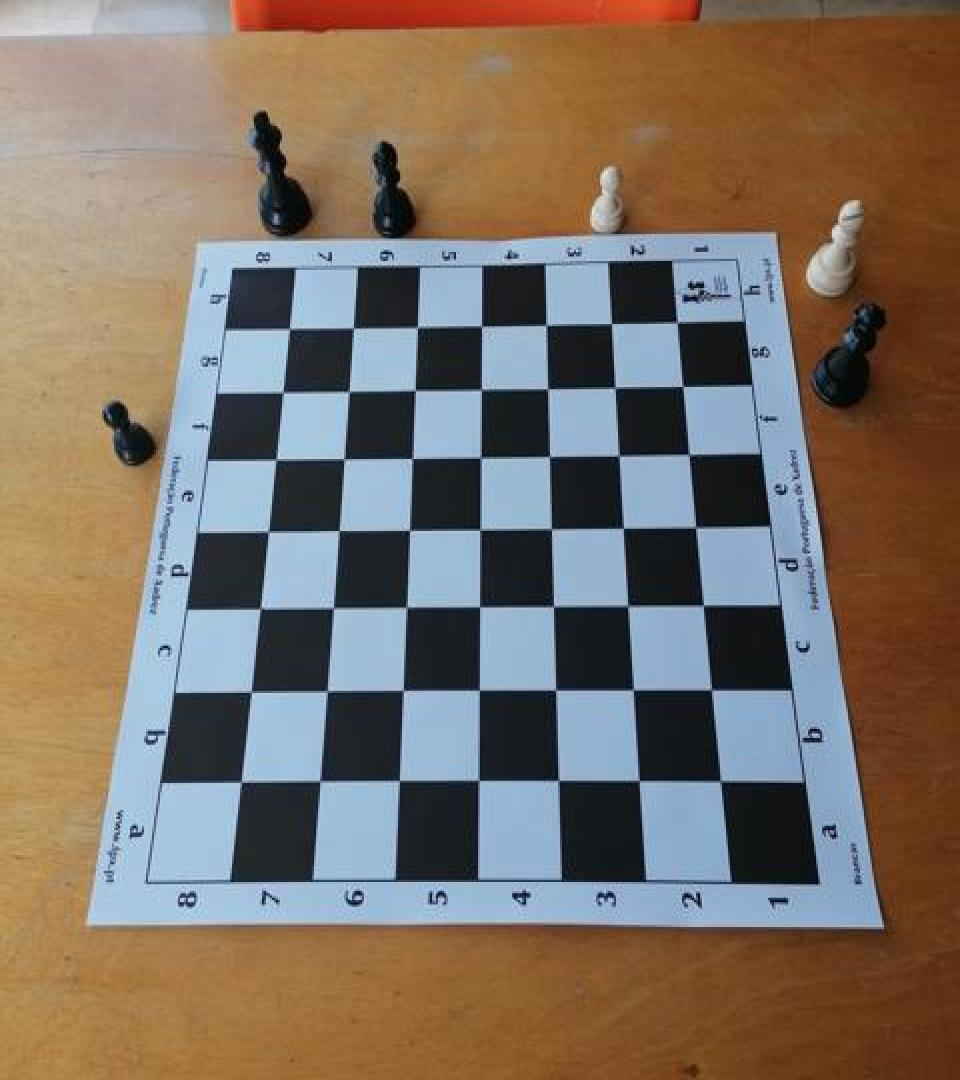xcorner: (225, 765, 253, 797), (543, 670, 571, 702), (621, 670, 649, 702), (699, 669, 727, 701), (245, 589, 273, 621), (319, 588, 347, 620), (392, 587, 420, 619), (467, 587, 495, 619), (541, 586, 569, 618), (616, 585, 644, 617), (467, 508, 495, 540), (539, 507, 567, 539), (611, 506, 639, 538), (683, 505, 711, 537), (399, 436, 427, 468), (468, 435, 496, 467), (537, 434, 565, 466), (606, 433, 634, 465), (676, 432, 704, 464), (269, 372, 297, 404), (335, 370, 363, 402), (402, 369, 430, 401), (669, 364, 697, 396), (277, 309, 305, 341), (340, 308, 368, 340), (404, 306, 432, 338), (663, 301, 691, 333), (305, 764, 333, 795), (385, 764, 413, 795), (465, 763, 493, 794), (546, 763, 574, 794), (627, 762, 655, 793), (709, 762, 737, 793), (236, 674, 264, 705), (312, 673, 340, 704), (389, 672, 417, 703), (466, 672, 494, 703), (691, 584, 719, 615), (254, 512, 282, 543), (325, 511, 353, 542), (396, 510, 424, 541), (262, 439, 290, 470), (330, 438, 358, 469), (468, 368, 496, 399), (535, 367, 563, 398), (602, 366, 630, 397), (469, 305, 497, 336), (533, 304, 561, 335), (598, 303, 626, 334)
